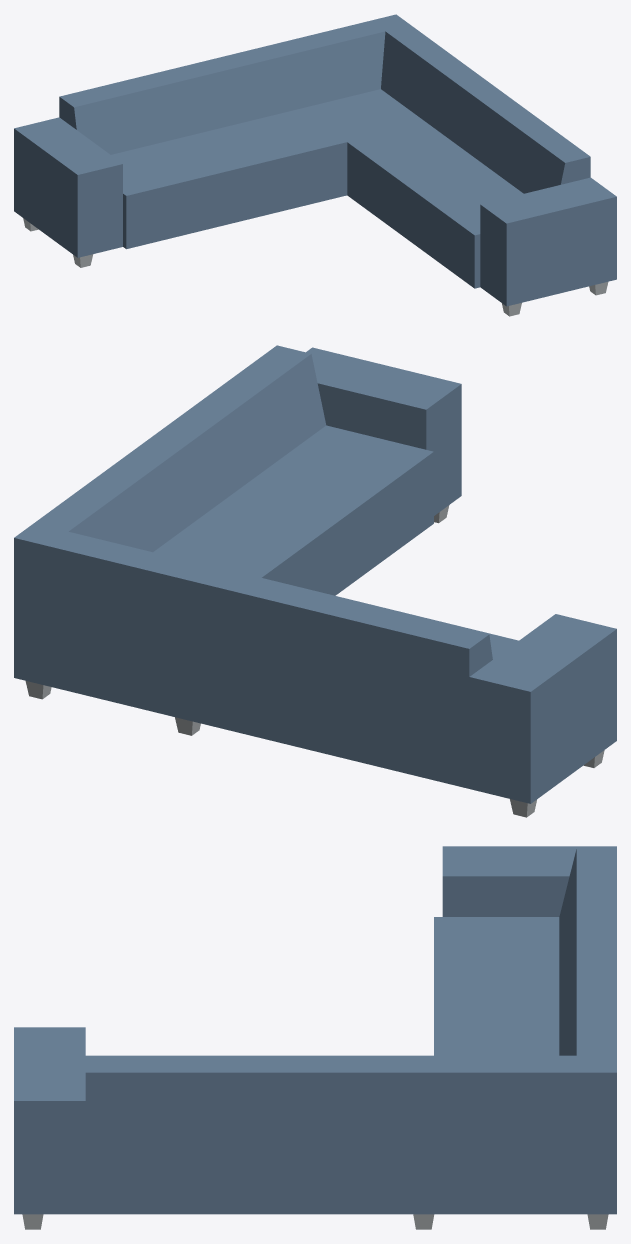
The model's file is sofa-modern-corner.glb.
The picture shows the model from 3 angles, top to bottom: view 1: azimuth 30°, elevation 25°; view 2: azimuth 150°, elevation 25°; view 3: azimuth 270°, elevation 25°; orthographic projection. The views are drawn at different scales.
Visible parts, largest first — view 1: sofa-modern-corner; view 2: sofa-modern-corner; view 3: sofa-modern-corner.
Boxes of the visible parts, x1,y1,x2,y2 form: sofa-modern-corner: (14,14,616,316); sofa-modern-corner: (14,345,616,817); sofa-modern-corner: (14,846,616,1229).
Bounding box in the file's own units: 2.5 × 0.74 × 2.5.
